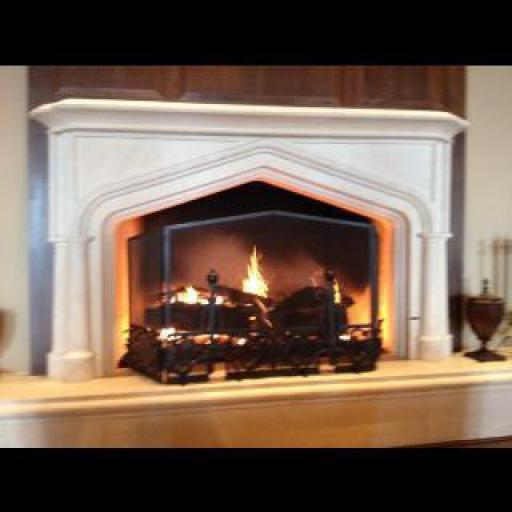smoke: (164, 237, 274, 344)
